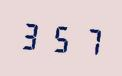five: (47, 18, 74, 57)
seven: (75, 21, 102, 59)
three: (18, 16, 45, 54)
